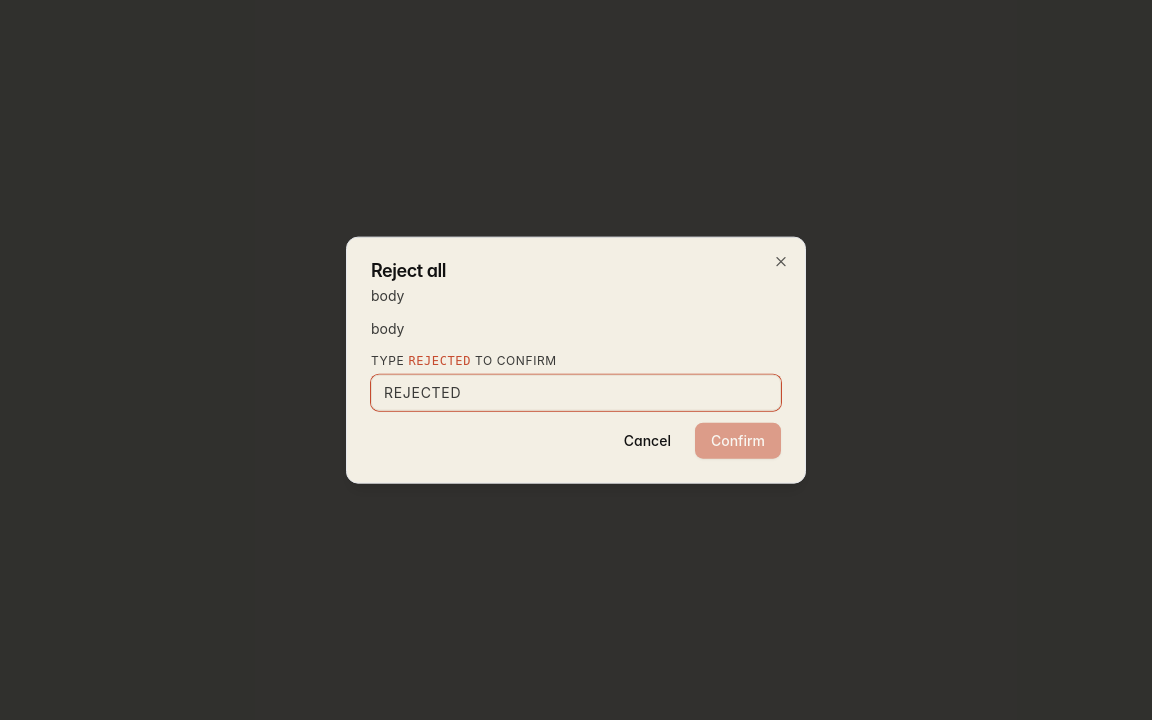
Test: TypedConfirmDialog › match is case-sensitive — lowercase `rejected` != `REJECTED`
Expected: the dialog is shown, [346,237,806,483]
Type "rejected" into the field with placeholder "REJECTED" at point(576, 392), box [371,374,781,410]
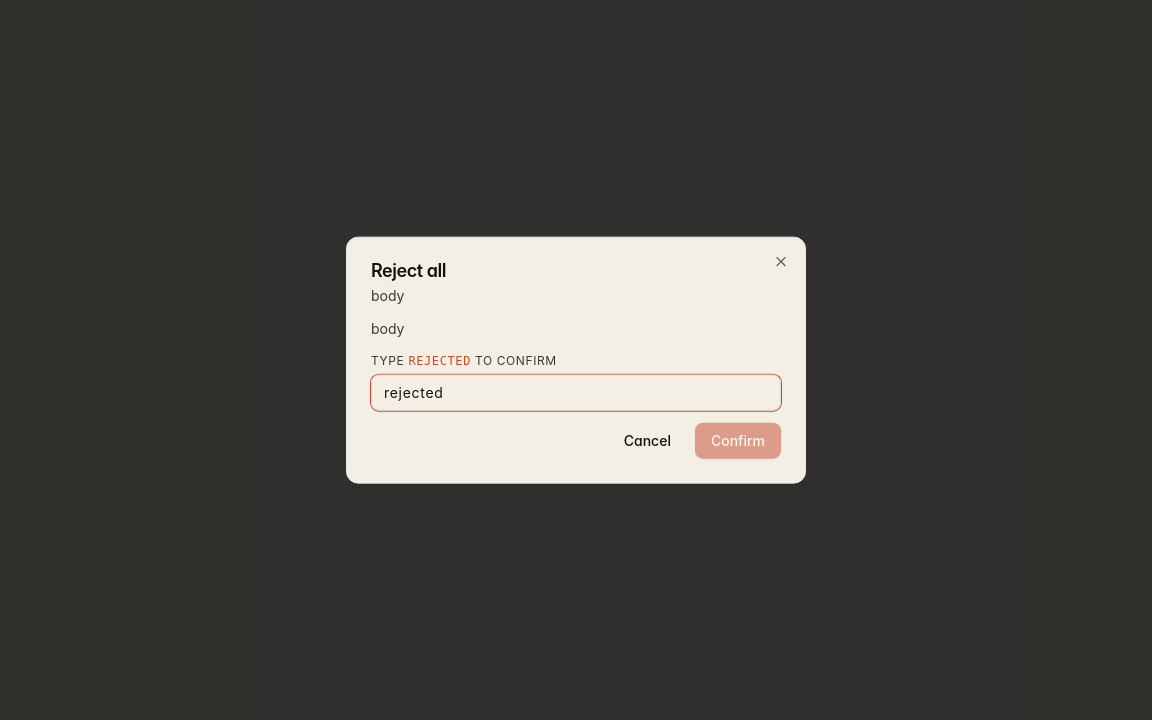
Expected: the button "Confirm" is disabled, [695,422,781,458]
Now actually match:
Replace the text in the field with placeholder "REJECTED" with "REJECTED" at point(576, 392), box [371,374,781,410]
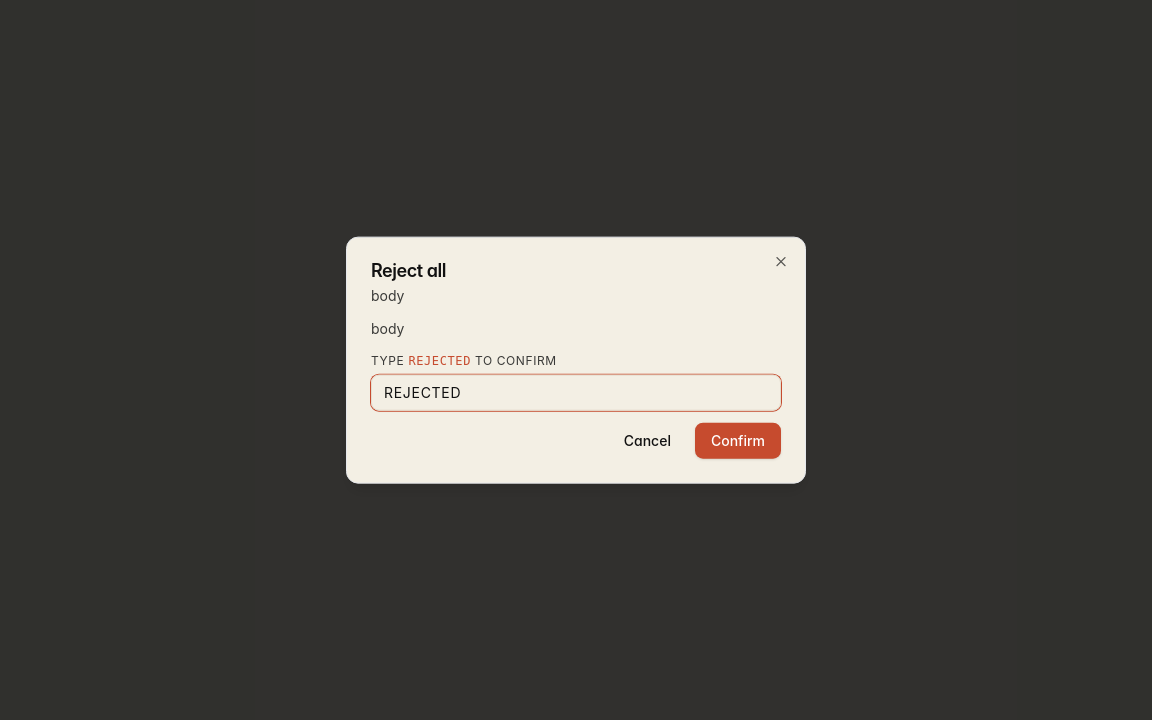
Now the button "Confirm" is enabled, box [695,422,781,458]
